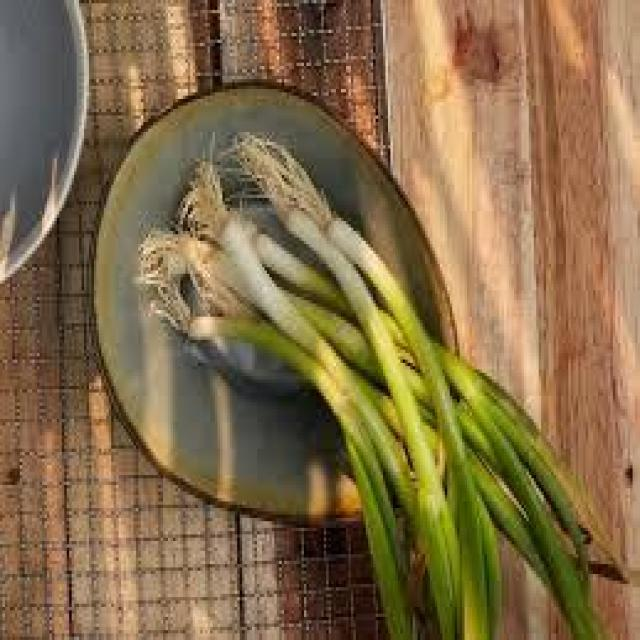Onion: (143, 125, 640, 640)
